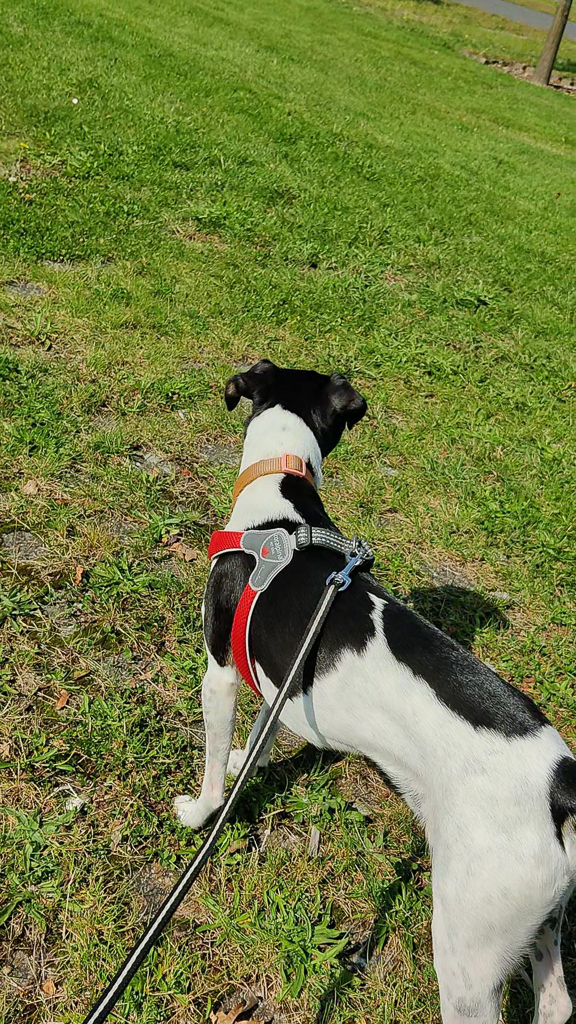Dog: (158, 343, 576, 1024)
